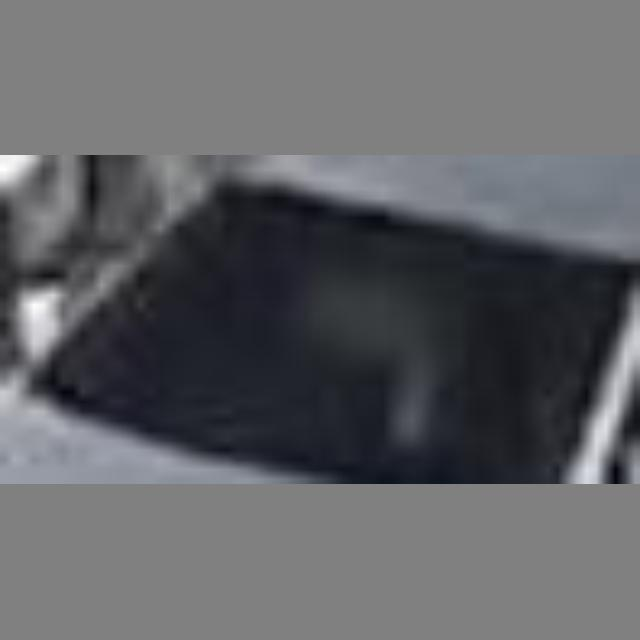tidak-pakai: (252, 233, 446, 427)
